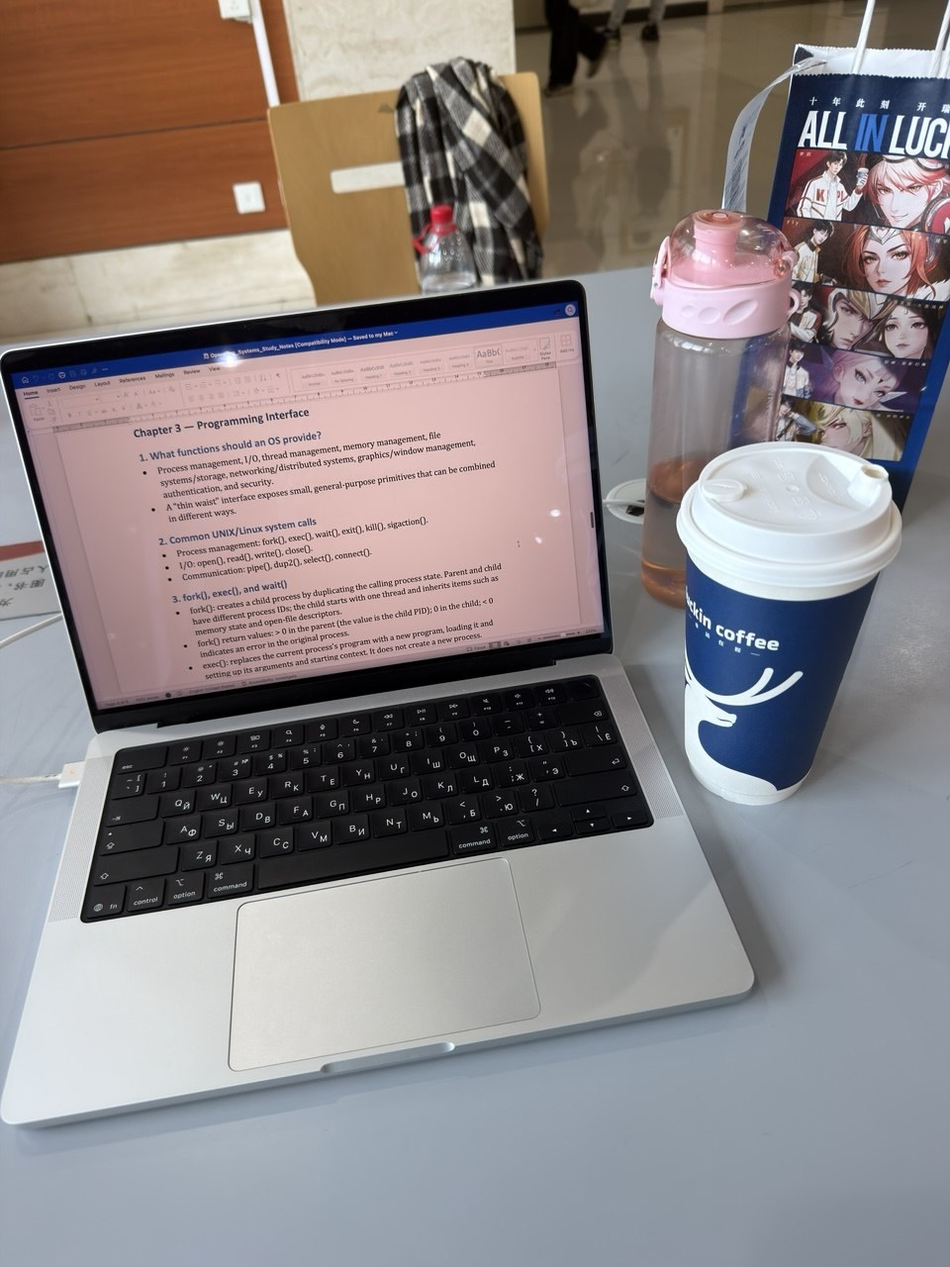laptop: (1, 275, 757, 1129)
